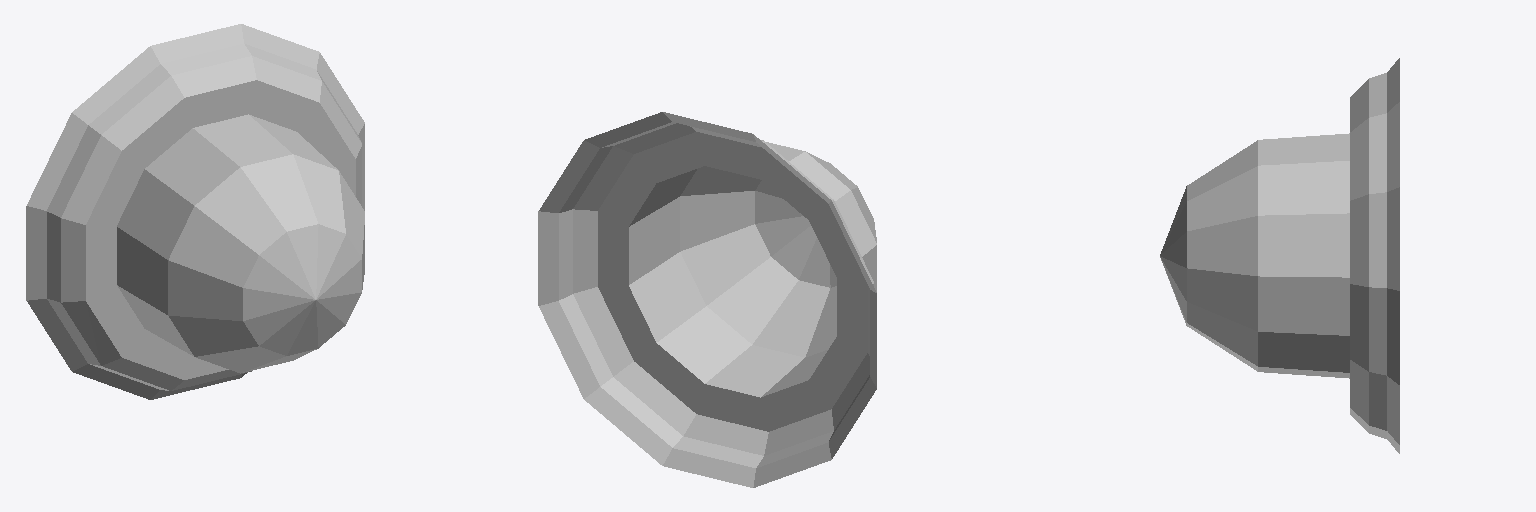
Rendered from original-120.obj.
3 renders of one model, left to right at view 1: azimuth 30°, elevation 25°; view 2: azimuth 150°, elevation 25°; view 3: azimuth 270°, elevation 25°, orthographic.
Parts seen in each view (by area): view 1: mesh34/mesh34-geometry#mesh34-geometry; view 2: mesh34/mesh34-geometry#mesh34-geometry; view 3: mesh34/mesh34-geometry#mesh34-geometry.
Part boxes in pixels (left/top/right/bottom): mesh34/mesh34-geometry#mesh34-geometry: left=26, top=24, right=364, bottom=399; mesh34/mesh34-geometry#mesh34-geometry: left=538, top=112, right=876, bottom=487; mesh34/mesh34-geometry#mesh34-geometry: left=1160, top=58, right=1399, bottom=453.
Bounding box in the file's own units: 0.0178 × 0.0178 × 0.011.